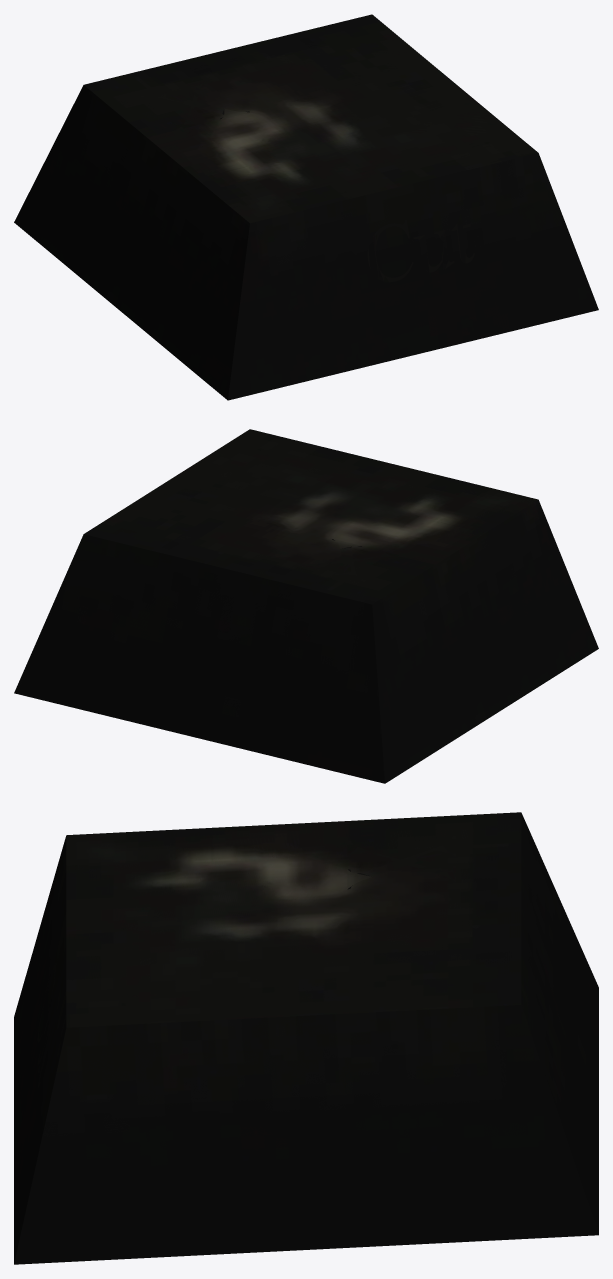
Rendered from link_32__key-38.glb.
The picture shows the model from 3 angles, top to bottom: view 1: azimuth 30°, elevation 25°; view 2: azimuth 150°, elevation 25°; view 3: azimuth 270°, elevation 25°; orthographic projection. The views are drawn at different scales.
Visible parts, largest first — view 1: geometry_0; view 2: geometry_0; view 3: geometry_0.
Part boxes in pixels (bbox=[...]): geometry_0: bbox=[14, 14, 598, 400]; geometry_0: bbox=[14, 429, 598, 783]; geometry_0: bbox=[14, 812, 598, 1264].
Size of the model in its own units: 0.0719 by 0.0315 by 0.0718.
Materials: 1 (1 with a texture image).
